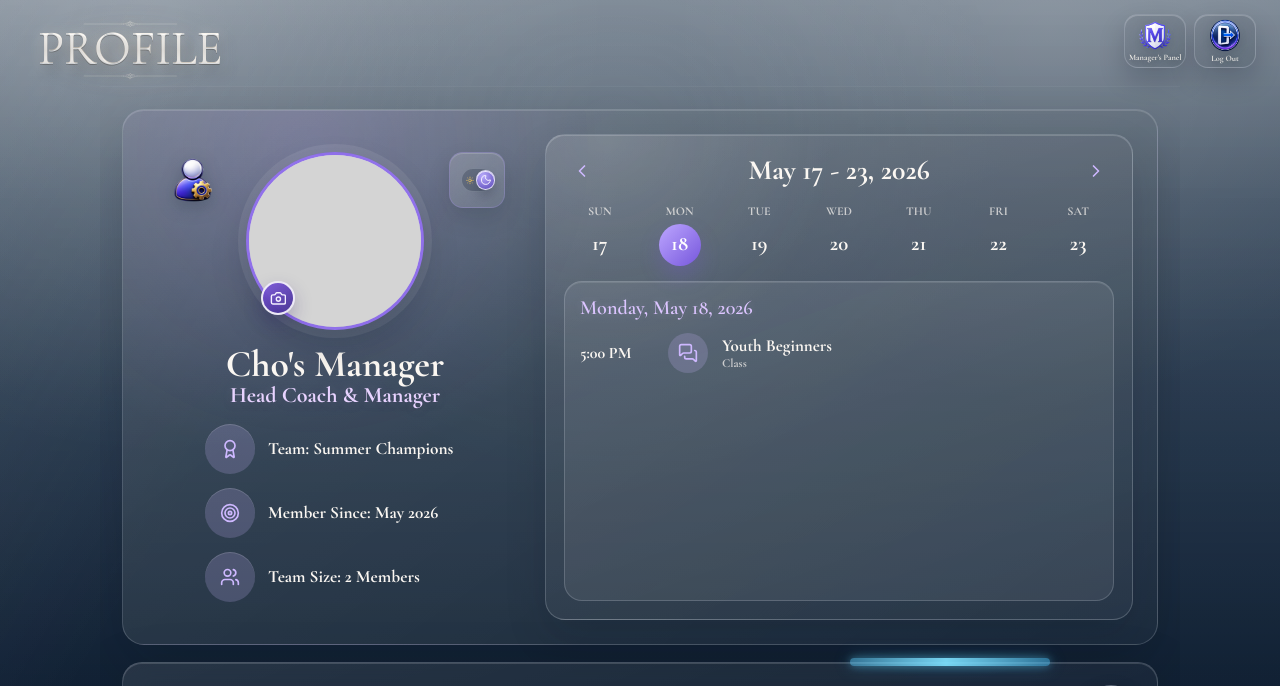
Test: post-login operations app › opens profile settings from the Home profile card icon
Click the link named "Profile Settings".
click(193, 180)  # box top-left (170, 157), bottom-right (216, 203)
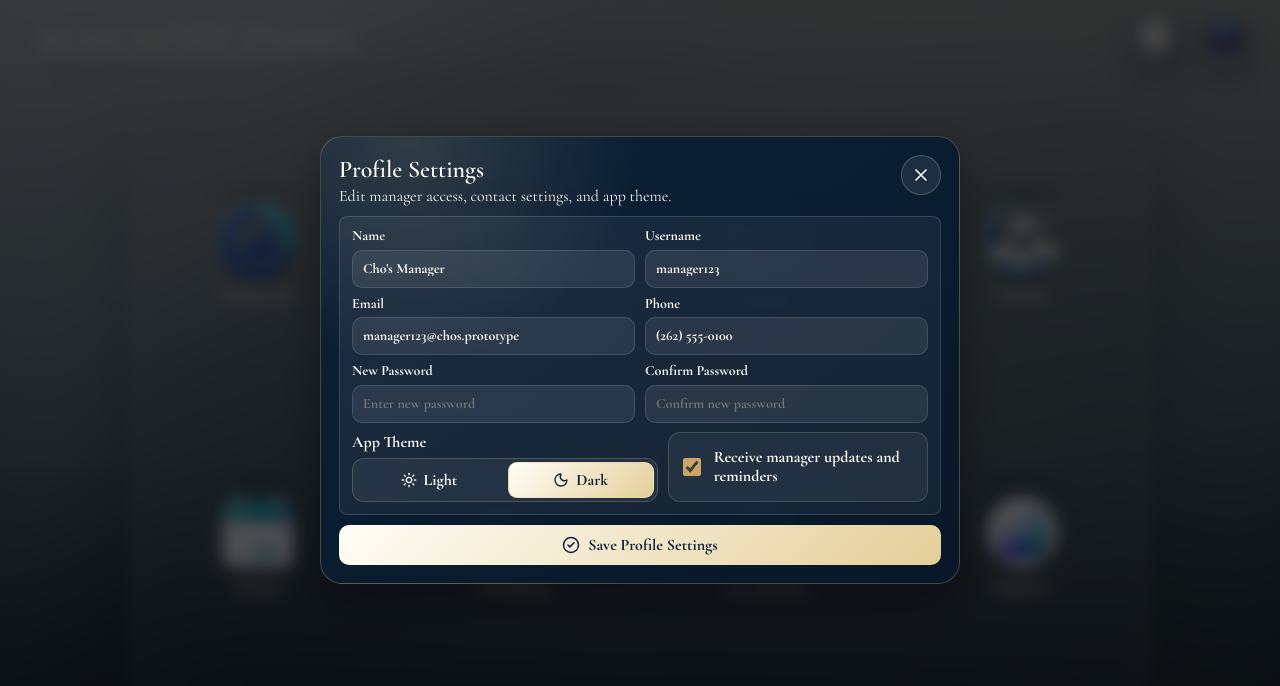
expect the dialog named "Manager profile settings" is shown: met, box top-left (320, 136), bottom-right (960, 584)
